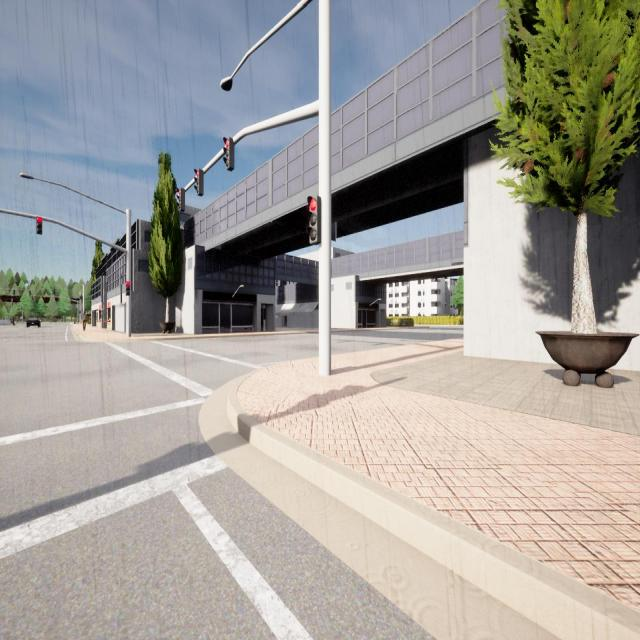Pedestrian: (81, 310, 87, 332)
Vehicle: (26, 317, 41, 328)
traffic_light: (308, 196, 322, 244), (223, 137, 234, 171), (194, 168, 204, 196), (176, 188, 185, 211), (36, 217, 42, 234), (126, 281, 130, 296), (29, 291, 31, 296), (44, 296, 45, 302), (58, 296, 59, 302), (14, 290, 15, 295), (32, 296, 33, 300), (80, 296, 81, 299), (81, 295, 82, 298)
